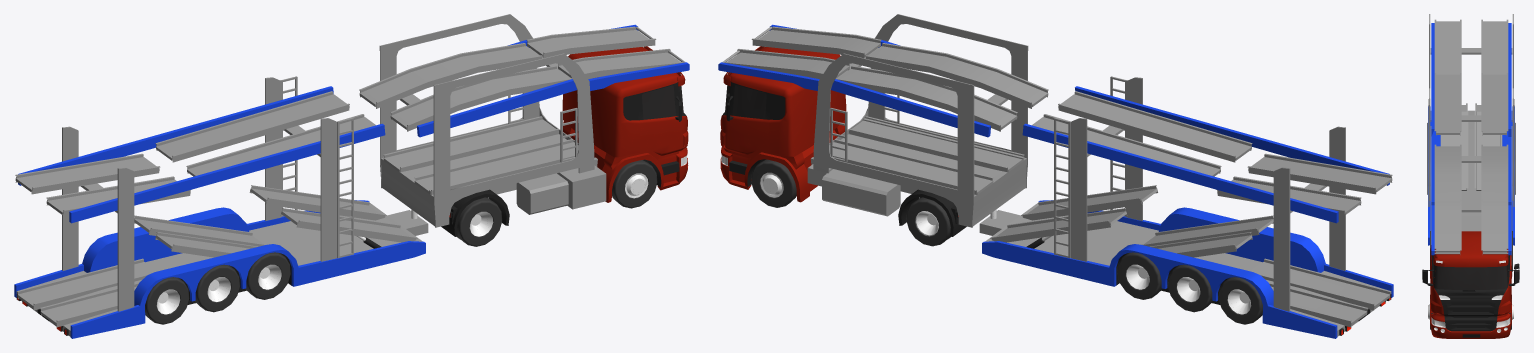
Rendered from sm_scania_r620_lod_2.fbx.
3 renders of one model, left to right at view 1: azimuth 30°, elevation 25°; view 2: azimuth 150°, elevation 25°; view 3: azimuth 270°, elevation 25°, orthographic. The views are drawn at different scales.
Visible parts, largest first — view 1: lod_2; view 2: lod_2; view 3: lod_2.
Boxes of the visible parts, <box> form: lod_2: <box>14,14,689,338</box>; lod_2: <box>718,14,1393,338</box>; lod_2: <box>1422,14,1519,338</box>.
Size of the model in its own units: 15.88 by 4.13 by 2.83.
